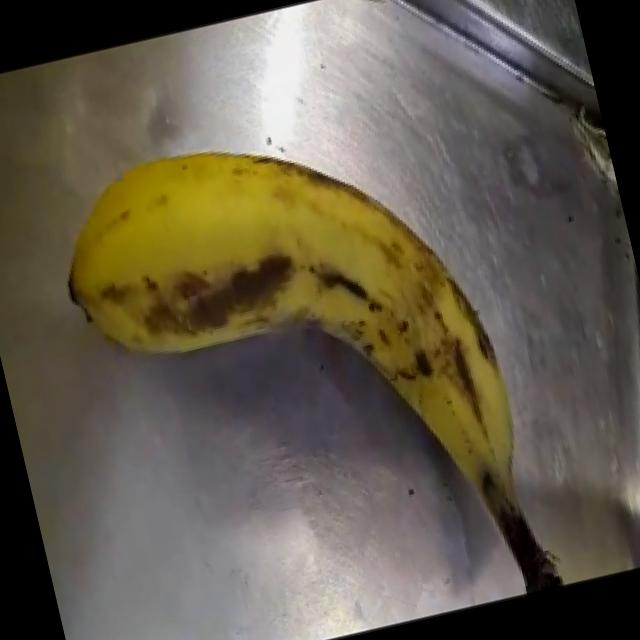Rotten_Banana: (0, 53, 586, 640)
